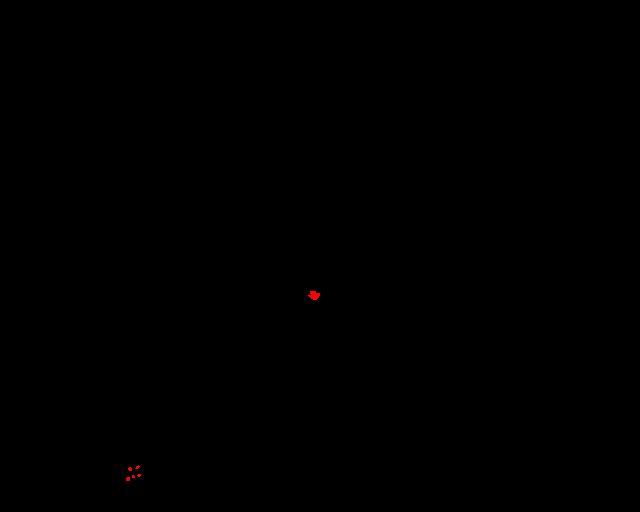Target: (308, 291, 320, 300), (135, 465, 140, 469), (128, 467, 132, 471), (126, 477, 130, 481), (137, 474, 141, 477), (132, 475, 135, 478)
